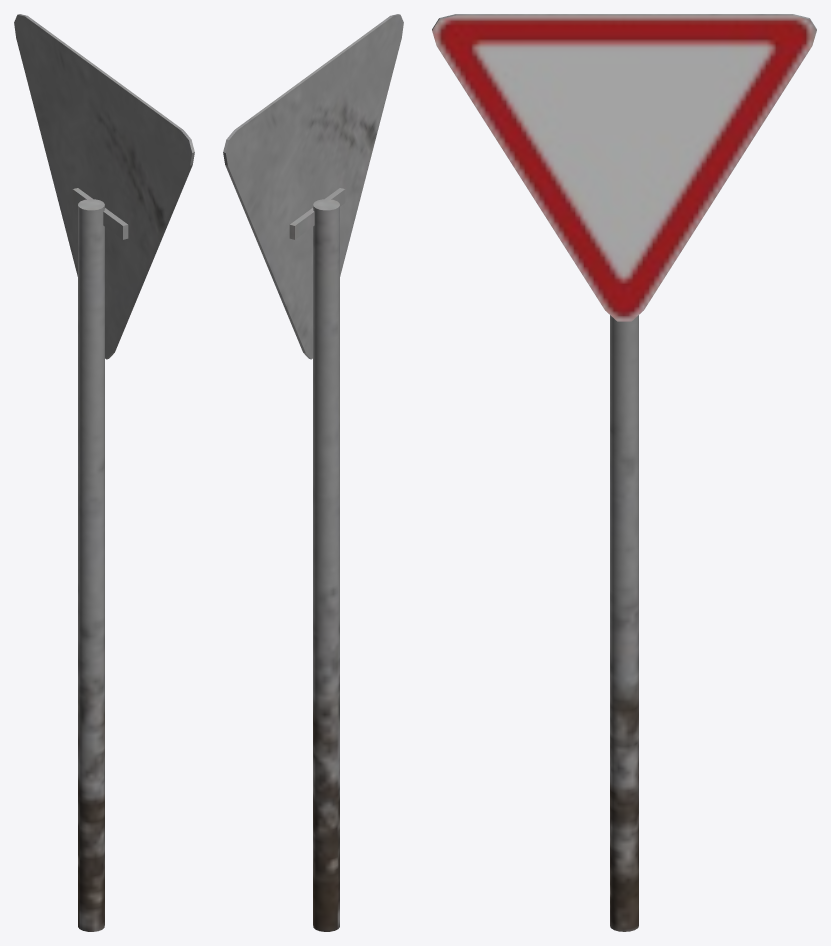
The model's file is sg_yield.glb.
3 views of the same model, side by side, from view 1: azimuth 30°, elevation 25°; view 2: azimuth 150°, elevation 25°; view 3: azimuth 270°, elevation 25° (orthographic). The views are drawn at different scales.
Parts seen in each view (by area): view 1: body|signs; view 2: body|signs; view 3: body|signs.
Boxes of the visible parts, x1,y1,x2,y2 form: body|signs: [14, 14, 194, 931]; body|signs: [223, 14, 403, 931]; body|signs: [432, 14, 816, 931].
Bounding box in the file's own units: 0.0758 × 2.36 × 0.8951.
1 material, 1 textured.
